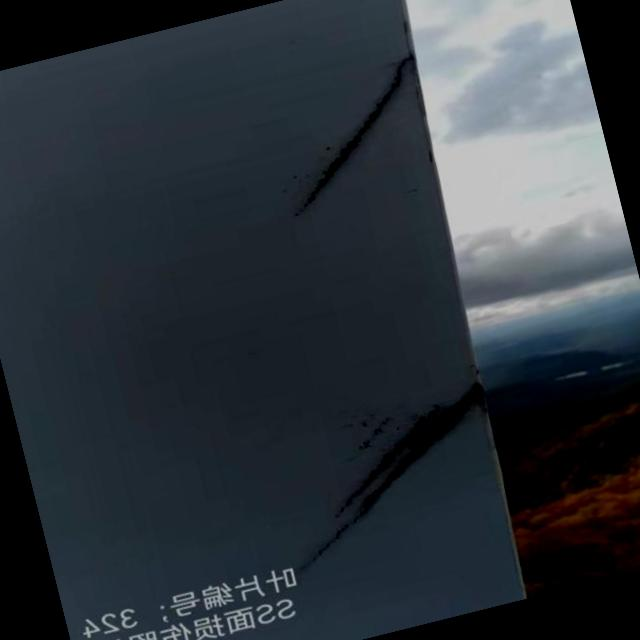crack: (284, 386, 505, 556), (264, 52, 443, 214)
